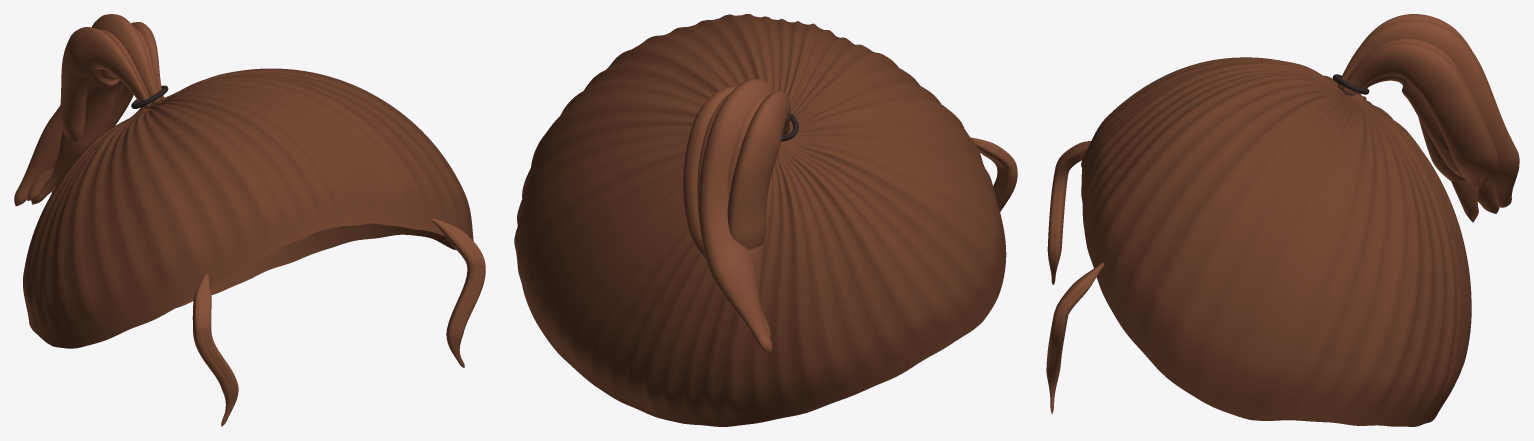
The model's file is Feminine-uncovered-hair.glb.
The picture shows the model from 3 angles, left to right: view 1: azimuth 30°, elevation 25°; view 2: azimuth 150°, elevation 25°; view 3: azimuth 270°, elevation 25°; orthographic projection. The views are drawn at different scales.
Visible parts, largest first — view 1: Hair / swept roots220, Hair / rounded tail220 0, Hair / rounded tail220 2, Hair / rounded tail220 1, Hair / adjustable front216 1, Hair / adjustable front216 -1, Hair / rounded tail220 3, Hair / rounded tail220 4; view 2: Hair / swept roots220, Hair / rounded tail220 2, Hair / rounded tail220 0, Hair / rounded tail220 4, Hair / adjustable front216 -1, Hair / rounded tail220 1, Hair / rounded tail220 3; view 3: Hair / swept roots220, Hair / rounded tail220 4, Hair / rounded tail220 2, Hair / rounded tail220 3, Hair / adjustable front216 -1, Hair / adjustable front216 1, Hair / rounded tail220 0, Hair / rounded tail220 1.
Part boxes in pixels (x1=…): Hair / swept roots220: x1=23, y1=68, x2=473, y2=348; Hair / rounded tail220 0: x1=60, y1=27, x2=150, y2=141; Hair / rounded tail220 2: x1=14, y1=14, x2=159, y2=206; Hair / rounded tail220 1: x1=31, y1=29, x2=152, y2=204; Hair / adjustable front216 1: x1=432, y1=218, x2=485, y2=367; Hair / adjustable front216 -1: x1=192, y1=273, x2=238, y2=426; Hair / rounded tail220 3: x1=27, y1=26, x2=160, y2=200; Hair / rounded tail220 4: x1=51, y1=22, x2=164, y2=193; Hair / swept roots220: x1=514, y1=14, x2=1006, y2=426; Hair / rounded tail220 2: x1=698, y1=79, x2=774, y2=353; Hair / rounded tail220 0: x1=727, y1=91, x2=790, y2=329; Hair / rounded tail220 4: x1=683, y1=86, x2=736, y2=260; Hair / adjustable front216 -1: x1=971, y1=137, x2=1017, y2=211; Hair / rounded tail220 1: x1=727, y1=92, x2=782, y2=346; Hair / rounded tail220 3: x1=697, y1=93, x2=770, y2=338; Hair / swept roots220: x1=1081, y1=57, x2=1471, y2=426; Hair / rounded tail220 4: x1=1342, y1=42, x2=1494, y2=200; Hair / rounded tail220 2: x1=1337, y1=19, x2=1519, y2=207; Hair / rounded tail220 3: x1=1342, y1=38, x2=1498, y2=178; Hair / adjustable front216 -1: x1=1047, y1=141, x2=1091, y2=284; Hair / adjustable front216 1: x1=1046, y1=262, x2=1104, y2=413; Hair / rounded tail220 0: x1=1361, y1=14, x2=1479, y2=222; Hair / rounded tail220 1: x1=1418, y1=117, x2=1499, y2=213.
Size of the model in its own units: 0.9675 by 0.7217 by 0.8977.
